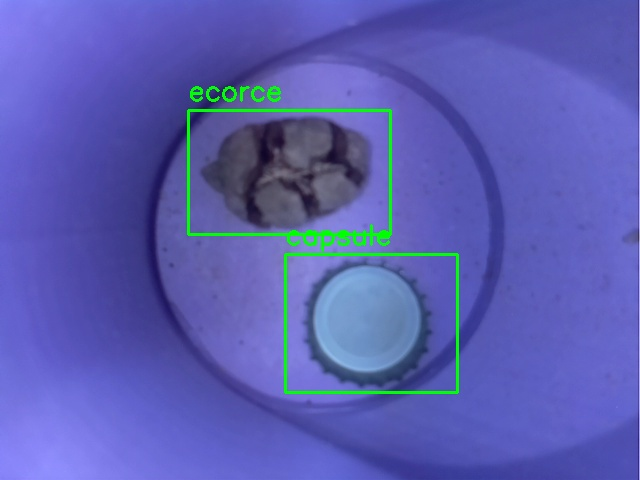capsule: (285, 254, 457, 392)
ecorce: (188, 110, 390, 234)
